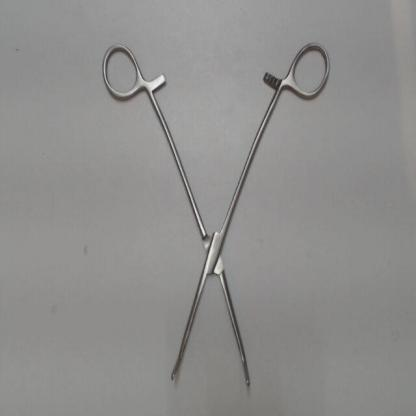Lahey Forceps: (92, 33, 336, 395)
